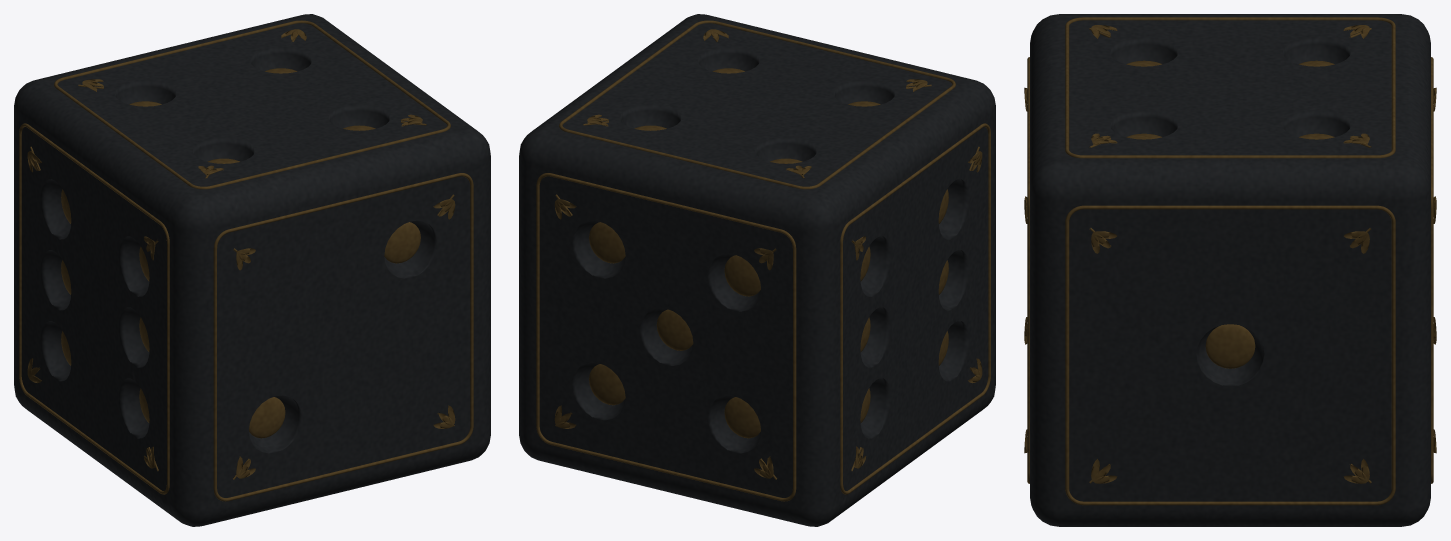
File: black_iron_royal.glb
3 views of the same model, side by side, from view 1: azimuth 30°, elevation 25°; view 2: azimuth 150°, elevation 25°; view 3: azimuth 270°, elevation 25° (orthographic). The views are drawn at different scales.
Parts seen in each view (by area): view 1: BlackIronRoyalDice; view 2: BlackIronRoyalDice; view 3: BlackIronRoyalDice.
Part boxes in pixels (x1,y1,x2,y2): BlackIronRoyalDice: (14,14,490,526); BlackIronRoyalDice: (519,14,995,526); BlackIronRoyalDice: (1024,14,1436,526).
Size of the model in its own units: 1.03 by 1.03 by 1.03.
Materials: 2 (2 with a texture image).
